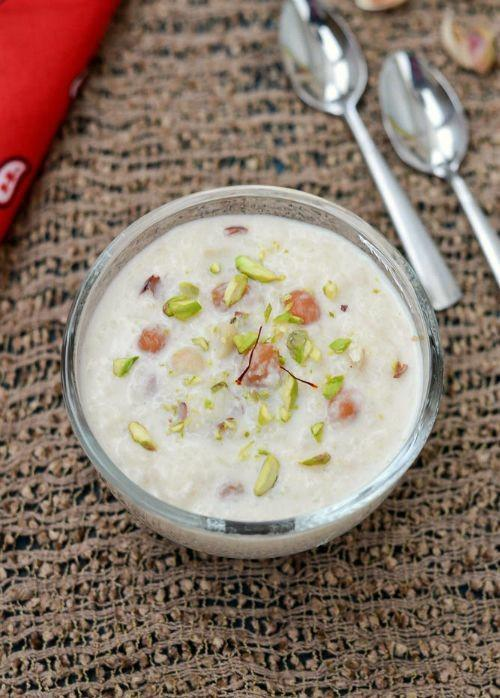Kheer: (73, 211, 424, 559)
